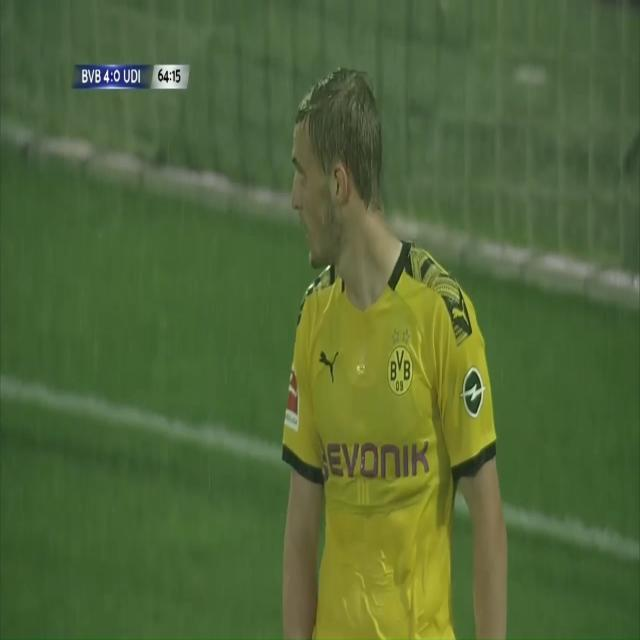player: (254, 76, 522, 640)
